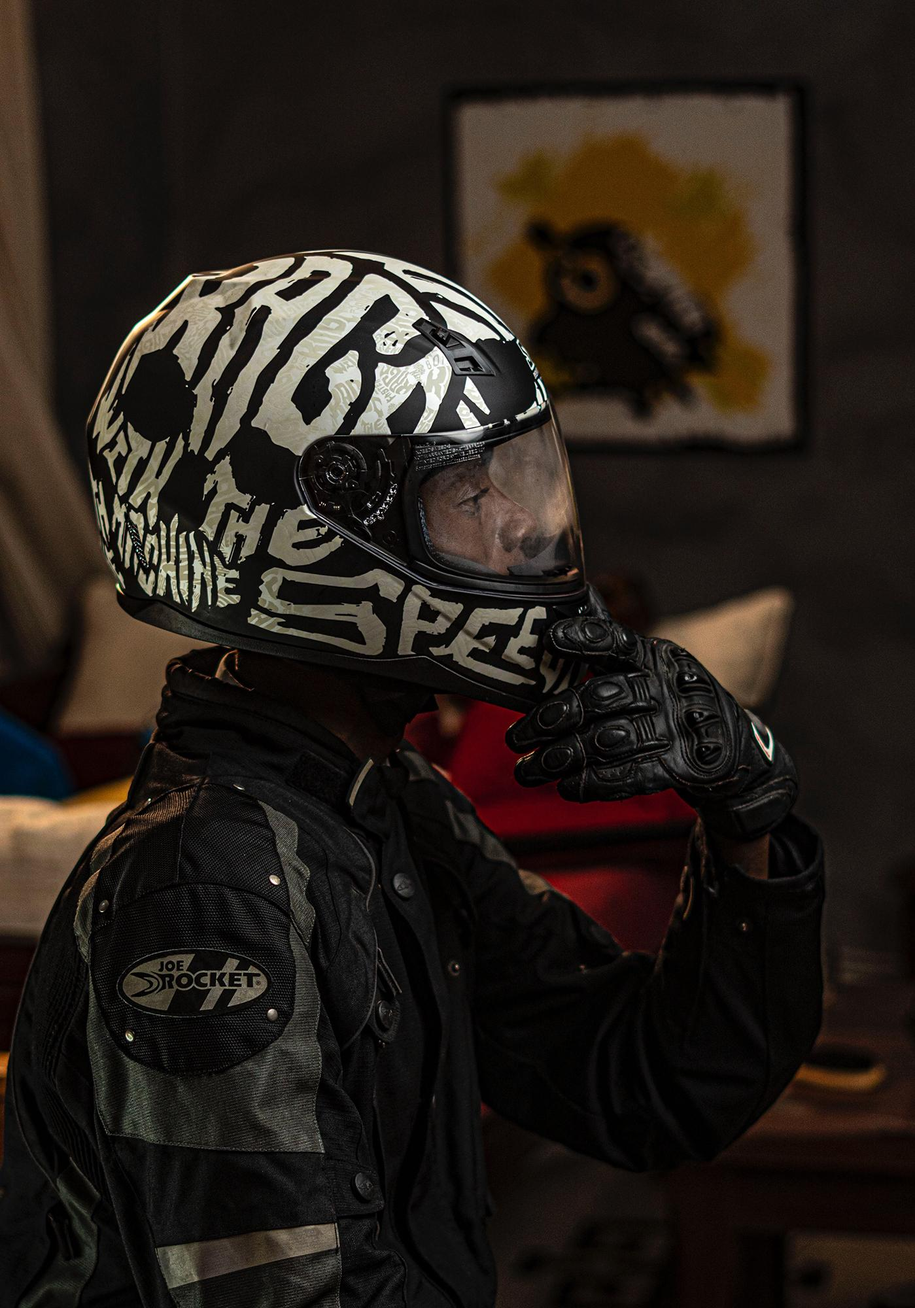helmet: (82, 245, 599, 728)
